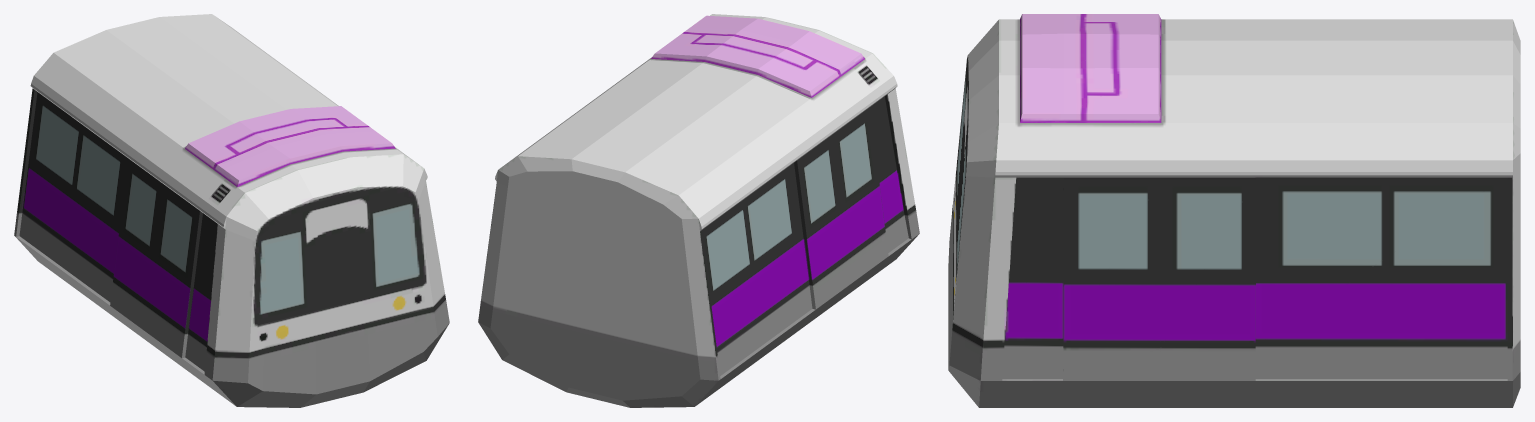
The model's file is MovingPlatformMRT_Purple.fbx.
3 views of the same model, side by side, from view 1: azimuth 30°, elevation 25°; view 2: azimuth 150°, elevation 25°; view 3: azimuth 270°, elevation 25° (orthographic). The views are drawn at different scales.
Visible parts, largest first — view 1: Cube.016; view 2: Cube.016; view 3: Cube.016.
Boxes of the visible parts, box(x1,y1,x2,y2) form: Cube.016: box(14, 14, 449, 407); Cube.016: box(478, 14, 919, 407); Cube.016: box(948, 14, 1520, 407).
Size of the model in its own units: 276 by 263 by 430.
